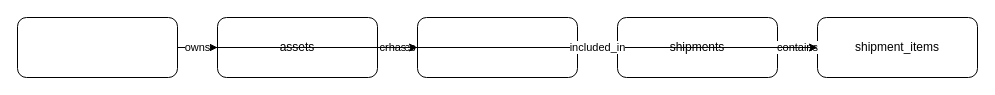
The diagram is 995 pixels wide and 95 high, and some of its shapes have lost their labels. The shapes that lost their labels are listed below. From the top down, each one's centre as x and y in pixels, then its label:
At (97,47): "users".
At (497,47): "locations".
